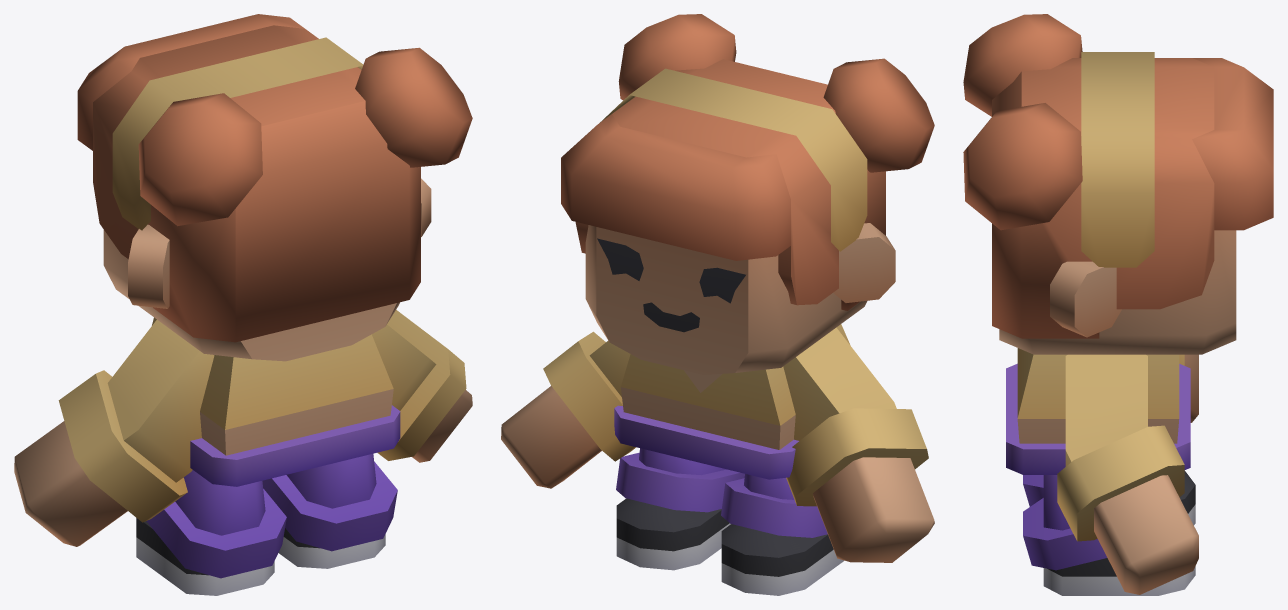
Rendered from hand_1_idle.fbx.
3 renders of one model, left to right at view 1: azimuth 30°, elevation 25°; view 2: azimuth 150°, elevation 25°; view 3: azimuth 270°, elevation 25°, orthographic. The views are drawn at different scales.
Parts seen in each view (by area): view 1: body-mesh; view 2: body-mesh; view 3: body-mesh.
Boxes of the visible parts, bbox=[...] form: body-mesh: bbox=[14, 14, 472, 595]; body-mesh: bbox=[501, 14, 934, 595]; body-mesh: bbox=[963, 14, 1273, 595].
Bounding box in the file's own units: 0.9179 × 1 × 0.5786.
